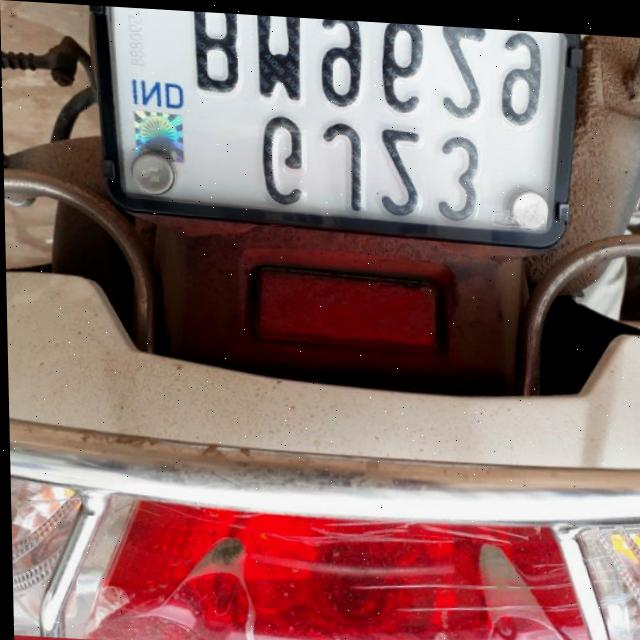plate: (88, 4, 586, 249)
